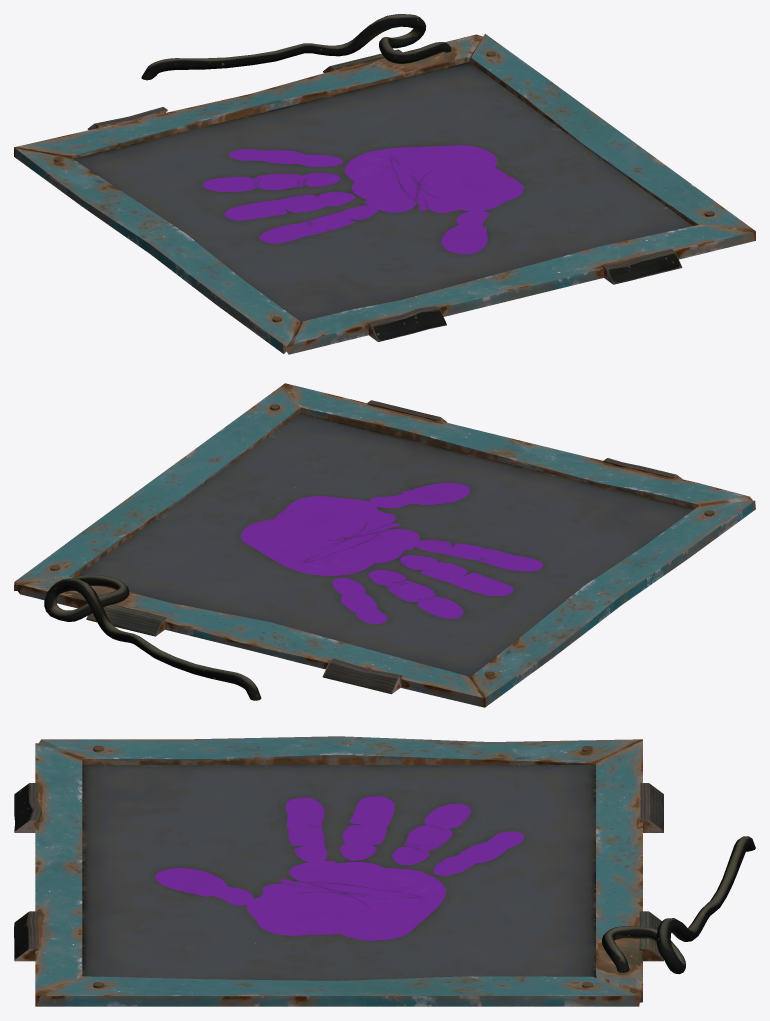
The model's file is poppy_playtime_3_jumppad_4k_texture.glb.
3 renders of one model, top to bottom at view 1: azimuth 30°, elevation 25°; view 2: azimuth 150°, elevation 25°; view 3: azimuth 270°, elevation 25°, orthographic. The views are drawn at different scales.
Visible parts, largest first — view 1: SM_Jump_Pad.mo_Material.052_0_4; view 2: SM_Jump_Pad.mo_Material.052_0_4; view 3: SM_Jump_Pad.mo_Material.052_0_4.
Boxes of the visible parts, box(x1,y1,x2,y2) form: SM_Jump_Pad.mo_Material.052_0_4: box(14, 14, 755, 354); SM_Jump_Pad.mo_Material.052_0_4: box(14, 383, 755, 707); SM_Jump_Pad.mo_Material.052_0_4: box(14, 736, 755, 1006).
Size of the model in its own units: 2.75 by 0.2192 by 3.36.
1 material, 1 textured.
